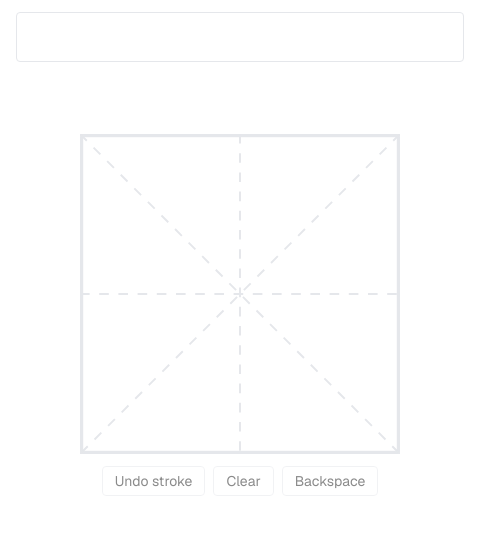
Test case: HanziPad › says so when recognition cannot be loaded
Press the mouse on the picture named "Drawing pad" at (240, 294), box [80,134,400,454]
Wait 300 ms
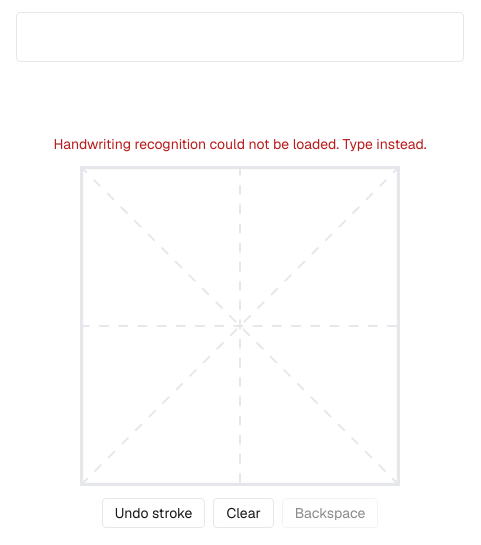
Result: the message shows "could not be loaded" at [53,135,427,153]
